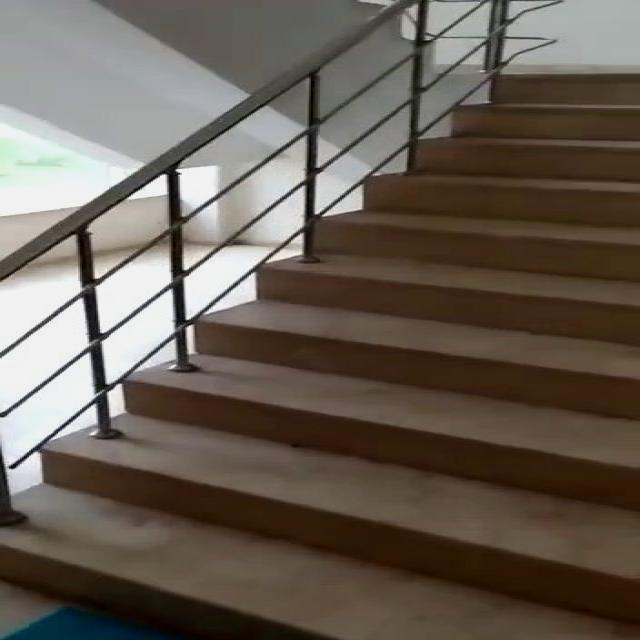stair: (6, 63, 640, 640)
